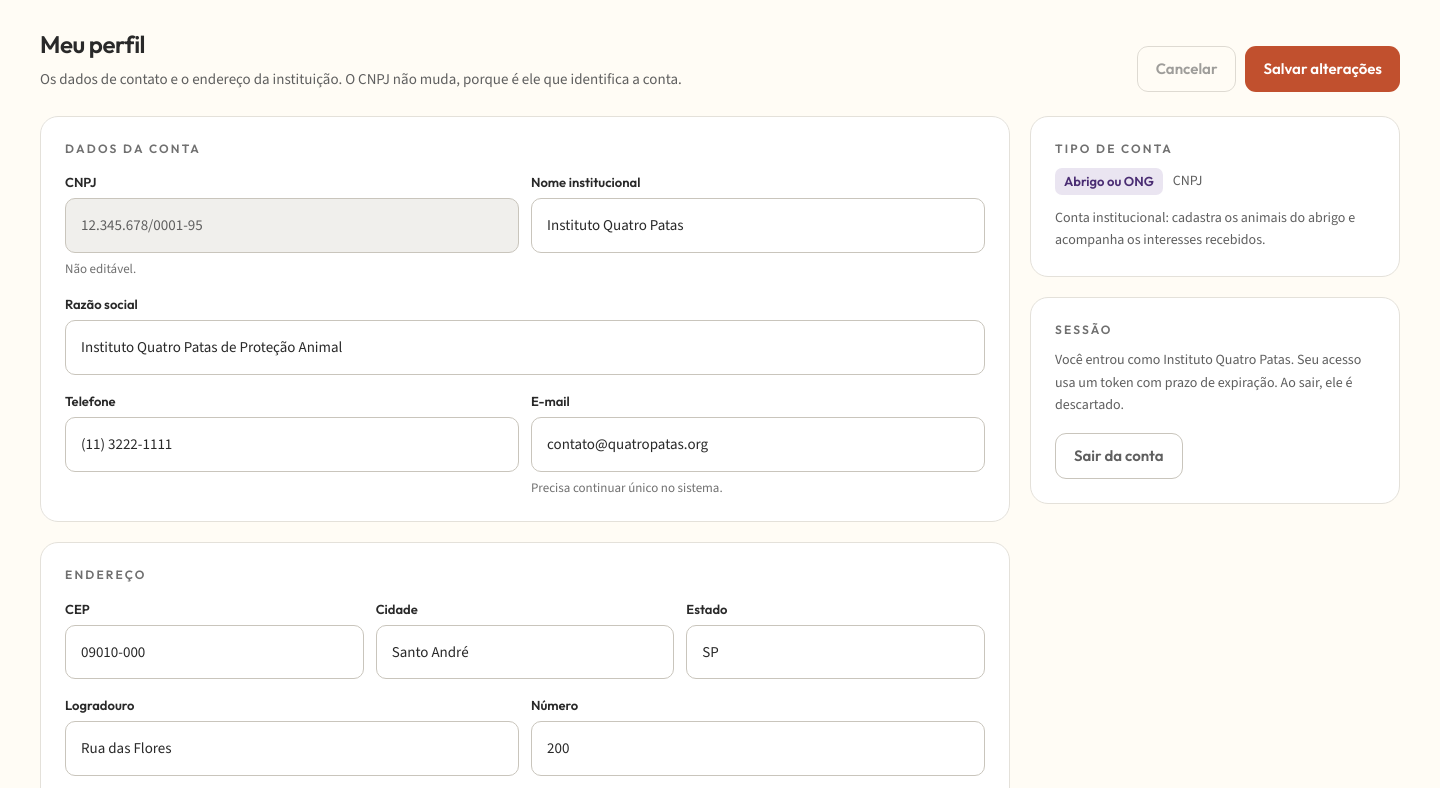
Test: salvar os dados › o abrigo envia a razão social, e o CNPJ não vai
This screenshot has width=1440, height=788.
Check: the button "Salvar alterações" is shown, box [1245,46,1400,92]
Replace the text in the field labelled "Razão social" with "Associação Quatro Patas" at (525, 348), box [65,320,985,375]
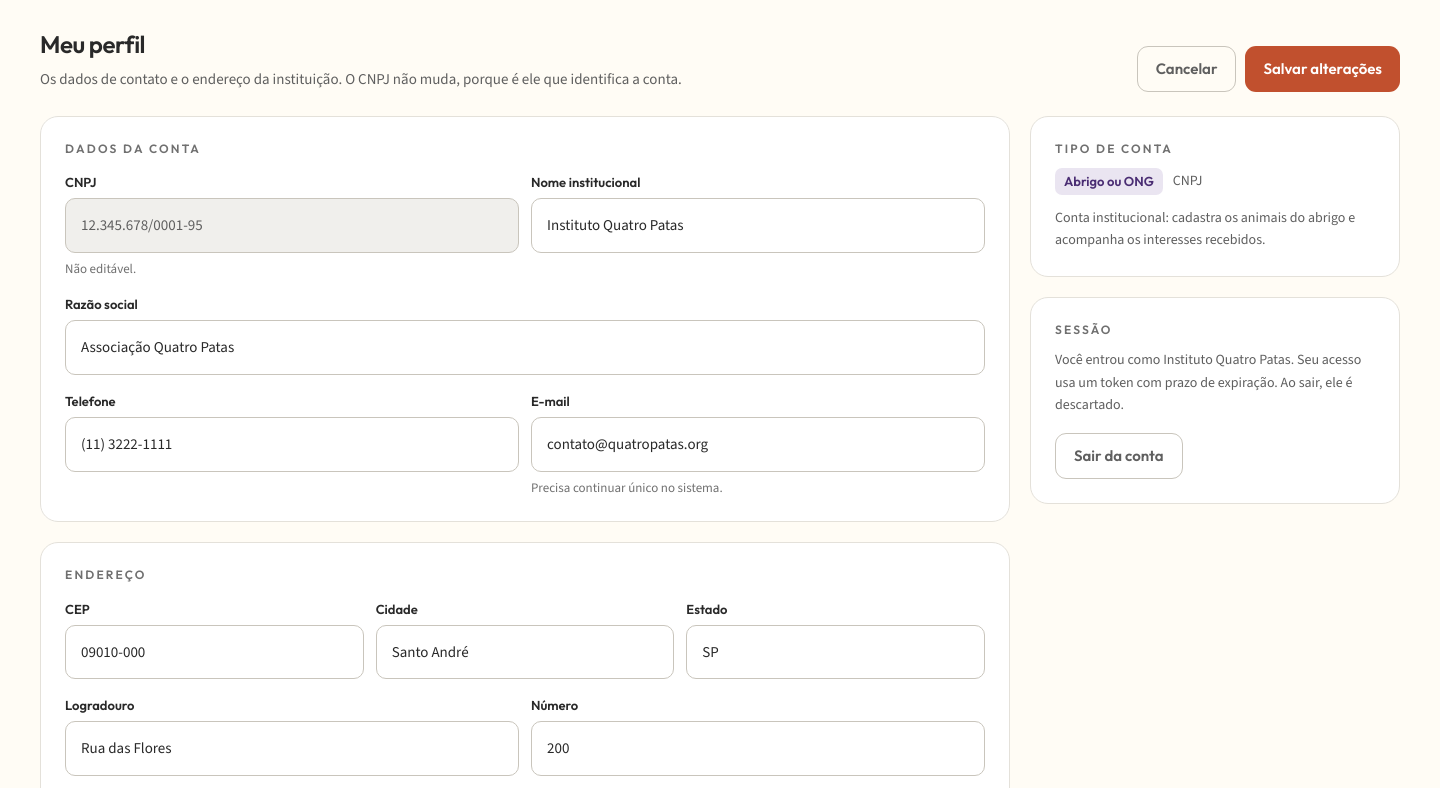
Click the button "Salvar alterações" at (1323, 68), box [1245,46,1400,92]
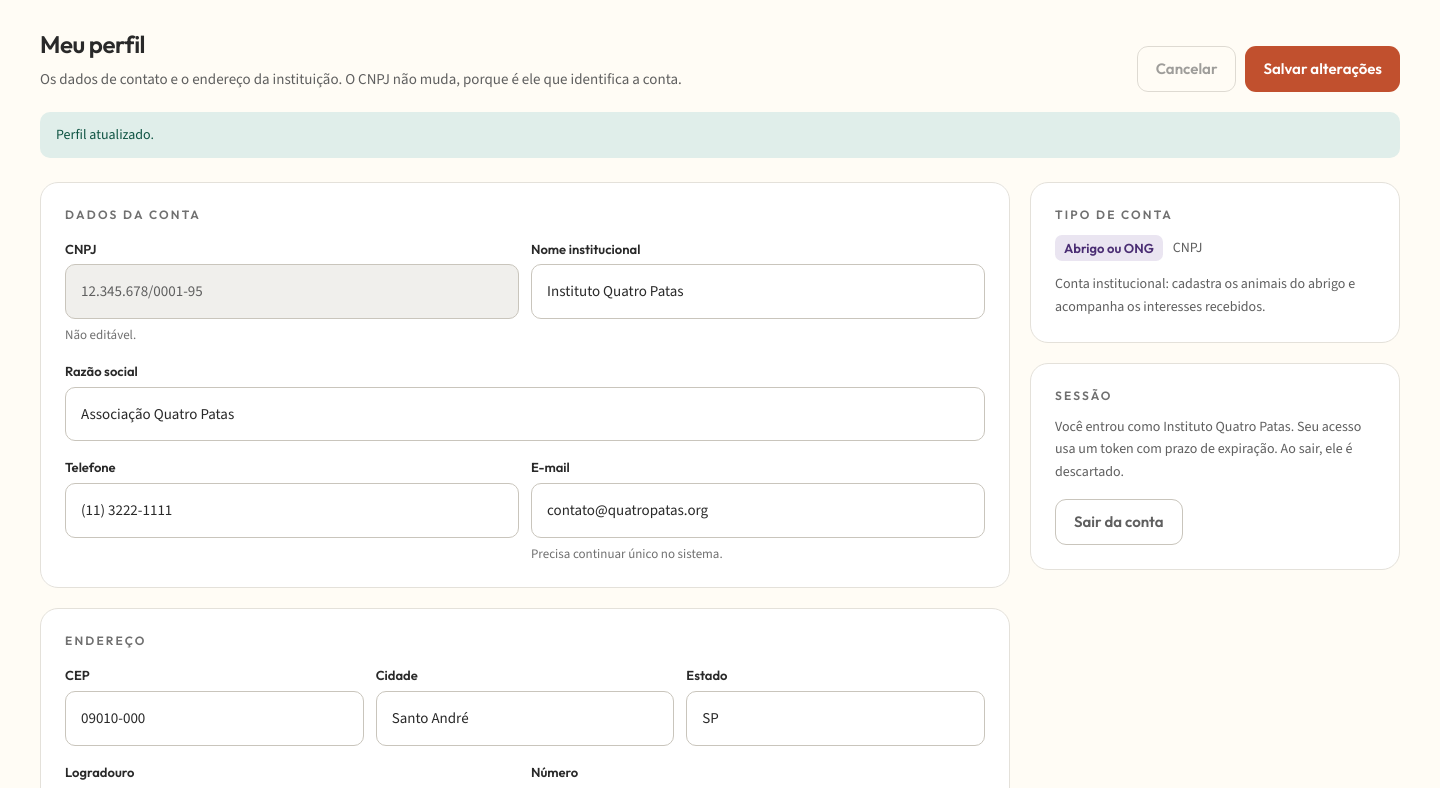
Check: the text "Perfil atualizado." is shown, box [40,112,1400,158]
